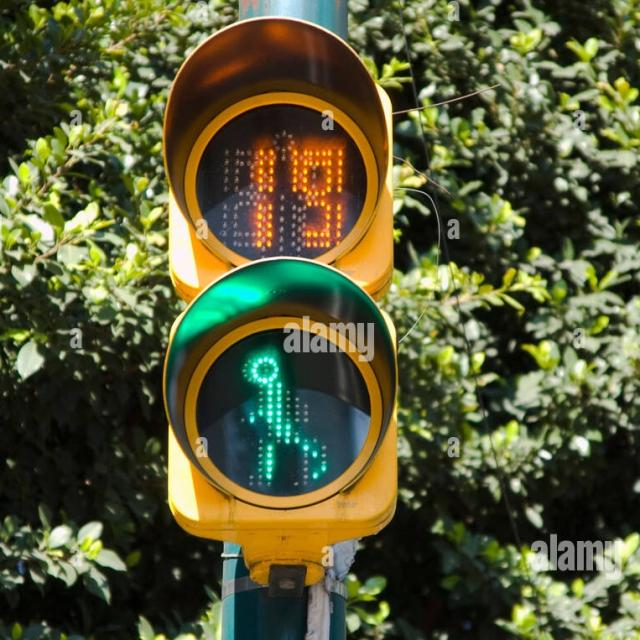green_light: (232, 349, 325, 489)
